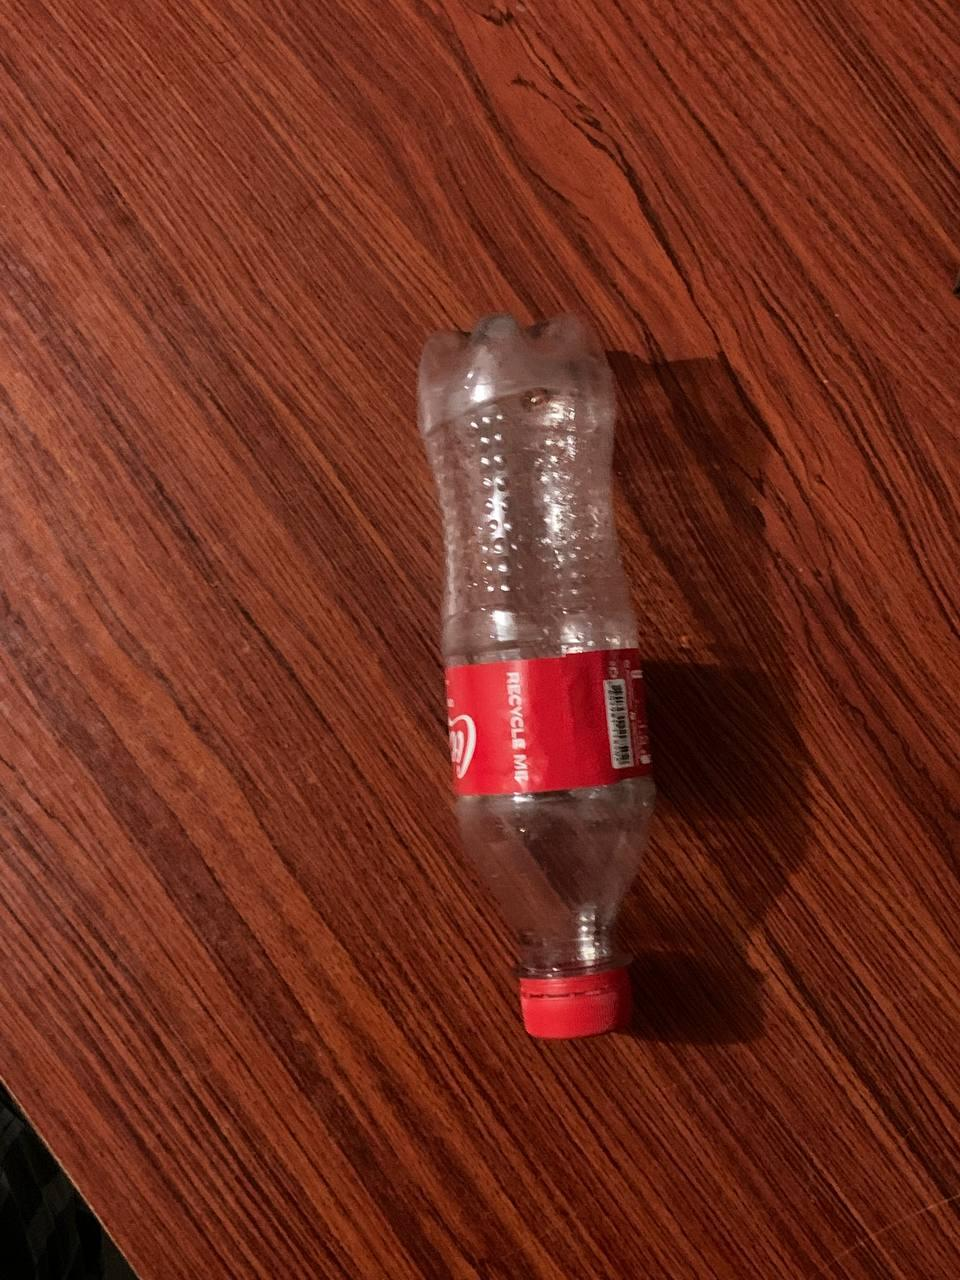plastic: (335, 267, 751, 1139)
